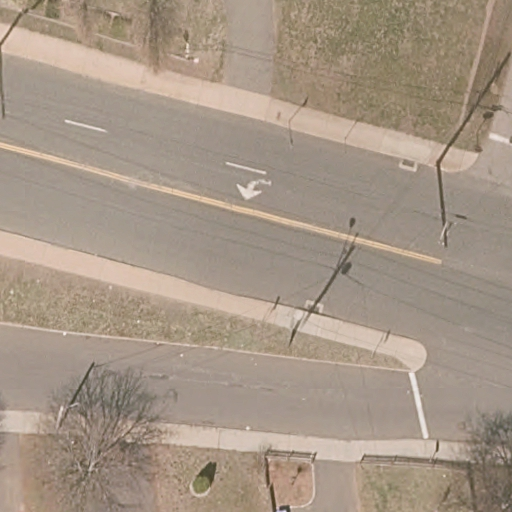DT: (434, 163, 453, 248), (50, 395, 79, 431), (288, 308, 313, 347)
